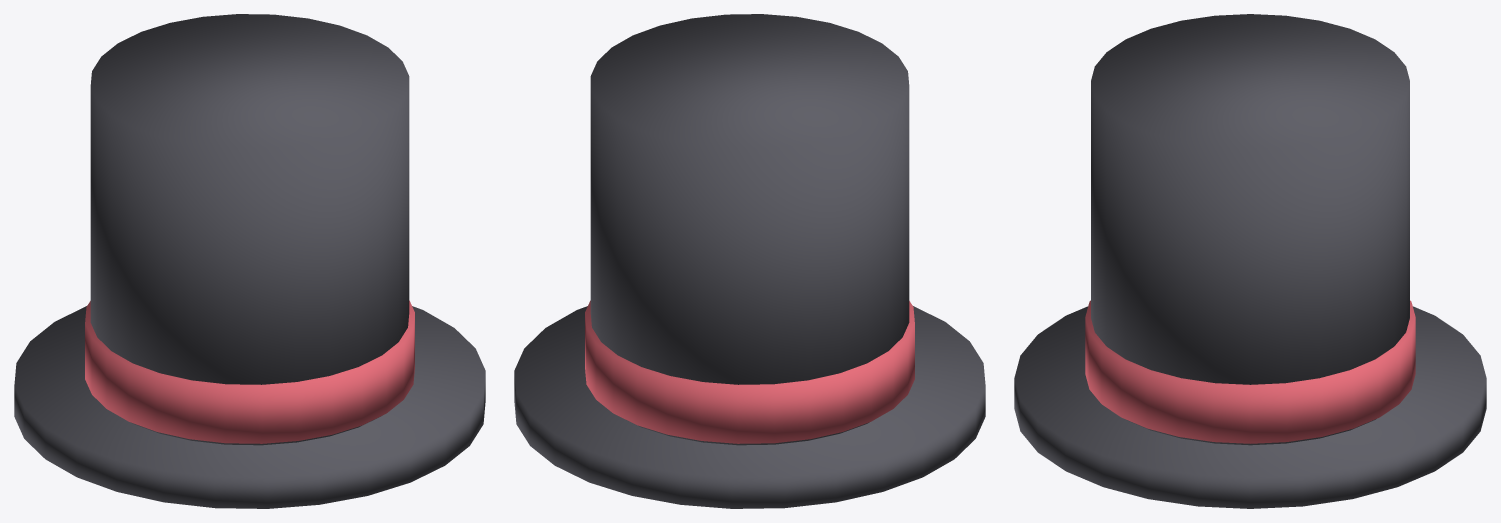
File: costume_top_hat.glb
The picture shows the model from 3 angles, left to right: view 1: azimuth 30°, elevation 25°; view 2: azimuth 150°, elevation 25°; view 3: azimuth 270°, elevation 25°; orthographic projection.
Visible parts, largest first — view 1: costume_top_hat_crown, costume_top_hat_brim, costume_top_hat_band; view 2: costume_top_hat_crown, costume_top_hat_brim, costume_top_hat_band; view 3: costume_top_hat_crown, costume_top_hat_brim, costume_top_hat_band.
Part boxes in pixels (x1,y1,x2,y2): costume_top_hat_crown: (90,14,409,445); costume_top_hat_brim: (14,306,485,508); costume_top_hat_band: (85,300,414,443); costume_top_hat_crown: (590,14,909,445); costume_top_hat_brim: (514,306,985,508); costume_top_hat_band: (585,300,914,443); costume_top_hat_crown: (1091,14,1409,445); costume_top_hat_brim: (1014,306,1486,508); costume_top_hat_band: (1085,300,1415,443).
Size of the model in its own units: 0.034 by 0.0261 by 0.034.
